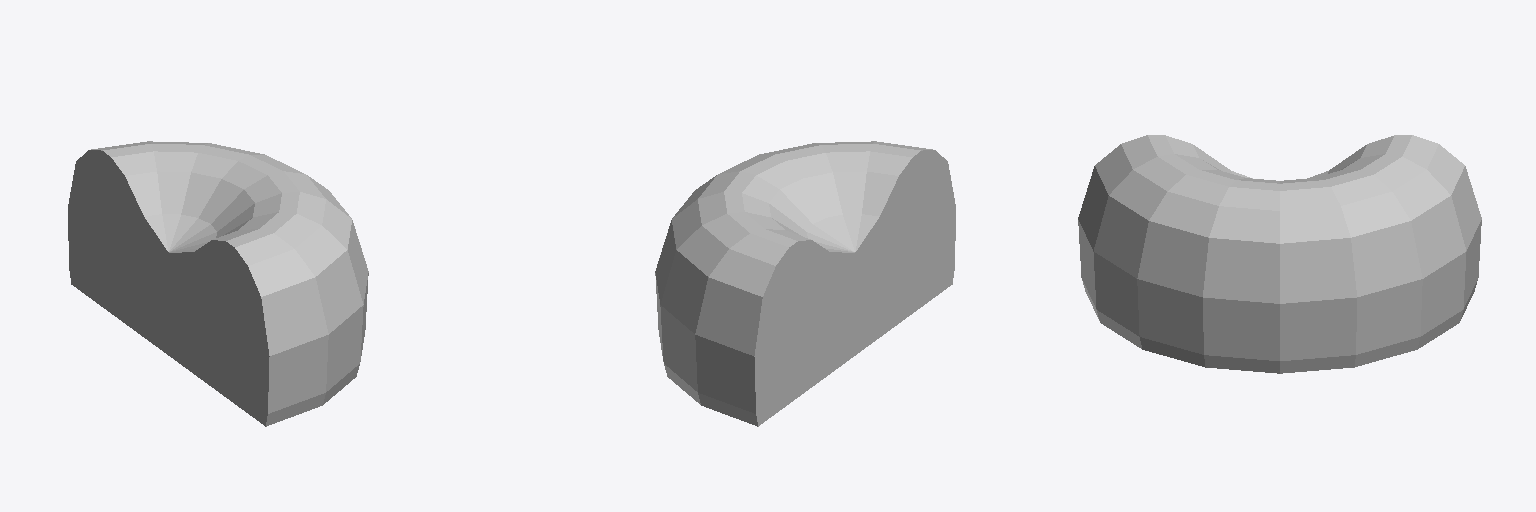
File: manzana-2-4.obj
The picture shows the model from 3 angles: view 1: azimuth 30°, elevation 25°; view 2: azimuth 150°, elevation 25°; view 3: azimuth 270°, elevation 25°; orthographic projection.
Parts seen in each view (by area): view 1: Manzana-1_2_Sphere.004; view 2: Manzana-1_2_Sphere.004; view 3: Manzana-1_2_Sphere.004.
Part boxes in pixels (x1,y1,x2,y2): Manzana-1_2_Sphere.004: (68,141,368,426); Manzana-1_2_Sphere.004: (655,141,955,426); Manzana-1_2_Sphere.004: (1078,135,1481,373).
Bounding box in the file's own units: 1.83 × 1.57 × 3.67.